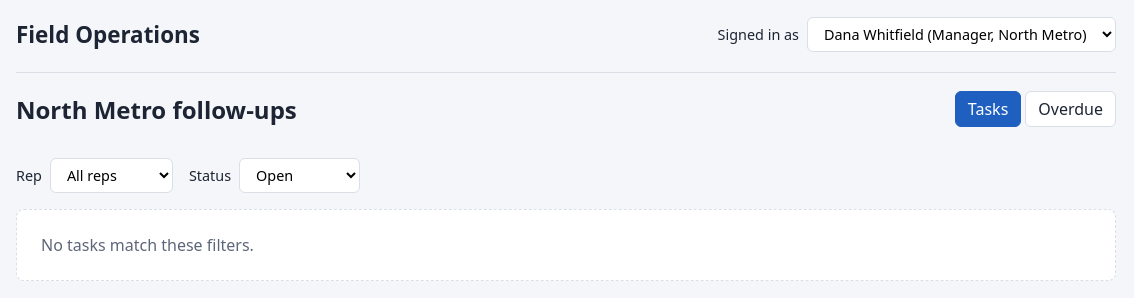
Test: App rep filter › resets the rep filter when the account changes
The image size is (1134, 298).
Check: the heading "North Metro follow-ups" is shown, box [16,93,297,126]
Select "Alicia Chen" in the dropdown labelled "Rep" at (111, 175), box [50,158,173,193]
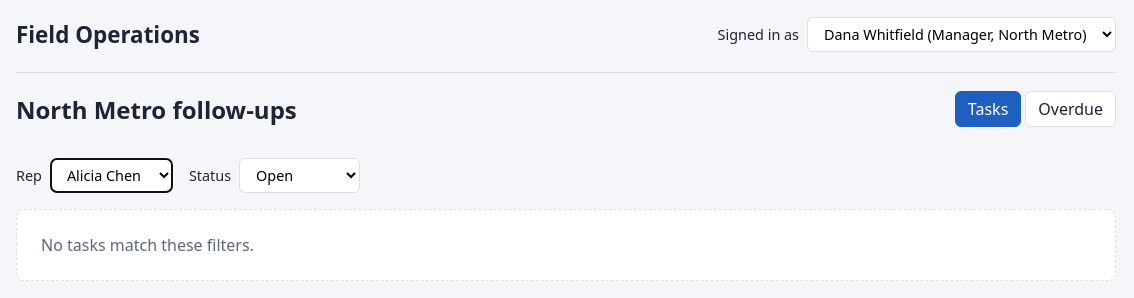
Select "Marcus Bell (Rep, North Metro)" in the dropdown labelled "Signed in as" at (962, 34), box [807,17,1116,52]
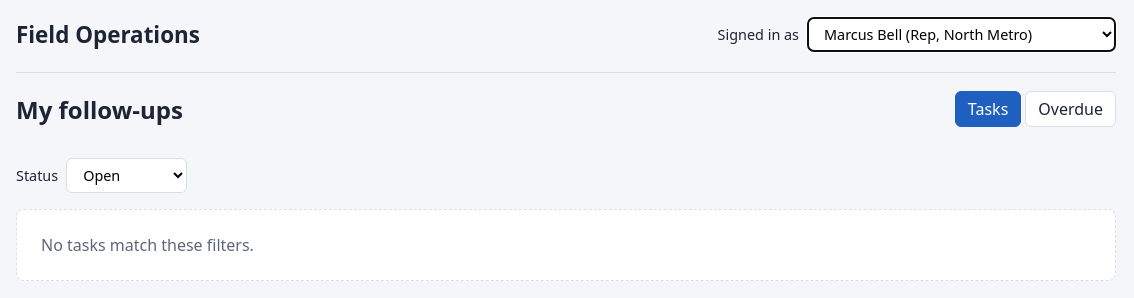
Check: the heading "My follow-ups" is shown, box [16,93,183,126]
Select "Dana Whitfield (Manager, North Metro)" in the dropdown labelled "Signed in as" at (962, 34), box [807,17,1116,52]
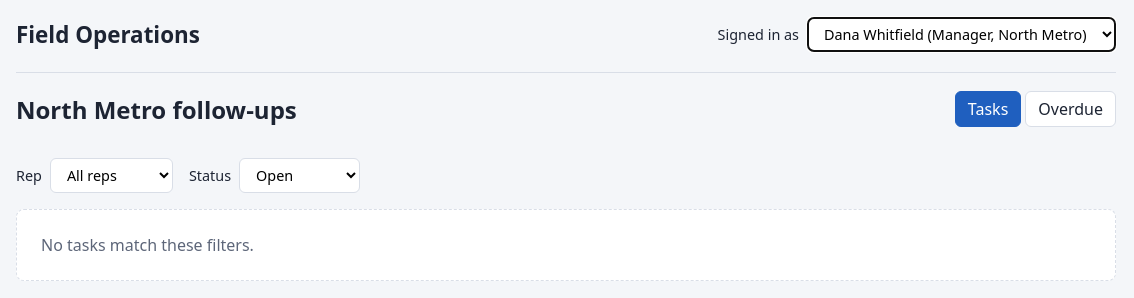
Check: the dropdown labelled "Rep" shows "All reps", box [50,158,173,193]
